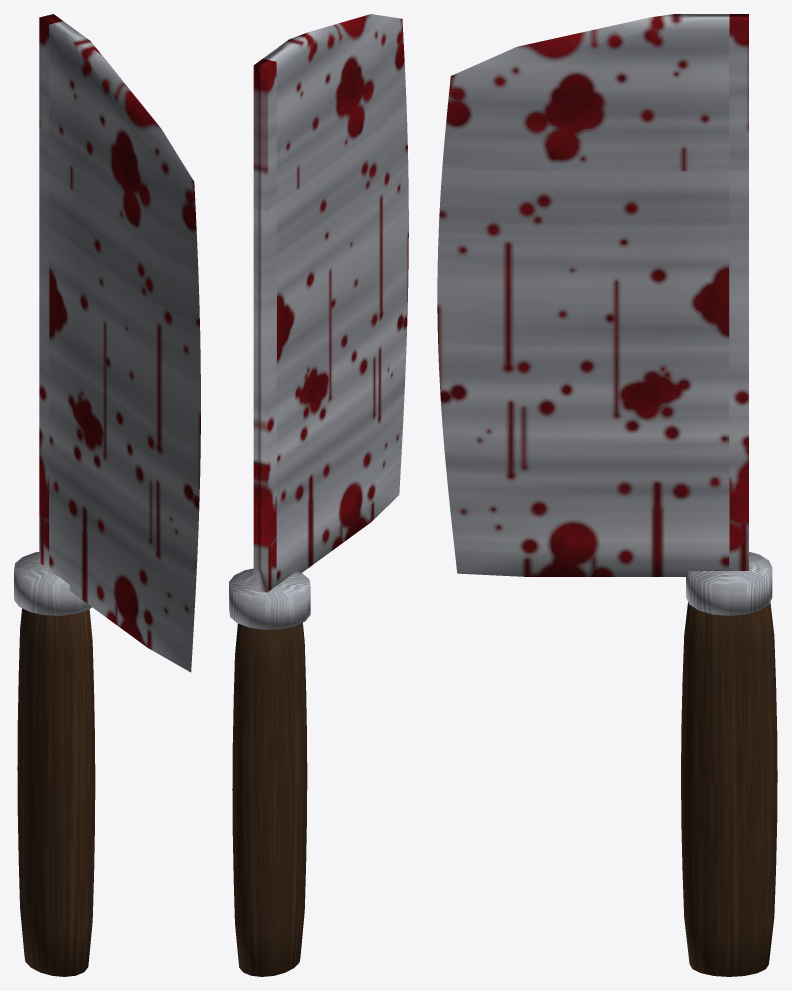
Rendered from 肉切り包丁_cleaver.glb.
The picture shows the model from 3 angles, left to right: view 1: azimuth 30°, elevation 25°; view 2: azimuth 150°, elevation 25°; view 3: azimuth 270°, elevation 25°; orthographic projection. The views are drawn at different scales.
Parts seen in each view (by area): view 1: cleaver; view 2: cleaver; view 3: cleaver.
Part boxes in pixels (<box>): cleaver: <box>14,14,200,976</box>; cleaver: <box>229,14,408,976</box>; cleaver: <box>437,14,777,976</box>.
Bounding box in the file's own units: 0.026 × 0.315 × 0.1025.
Materials: 3 (3 with a texture image).
